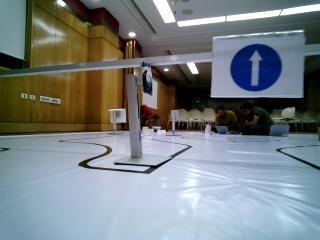straight: (212, 37, 307, 98)
